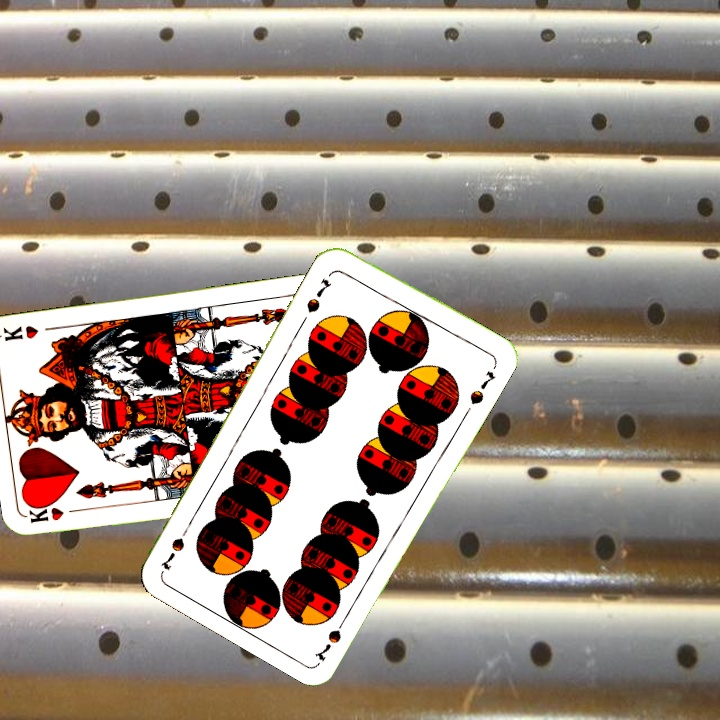HK: (26, 503, 86, 526)
S7: (310, 610, 351, 664), (302, 274, 334, 316)
